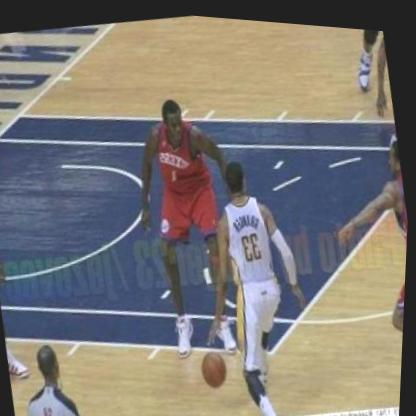basketball: (205, 343, 231, 385)
